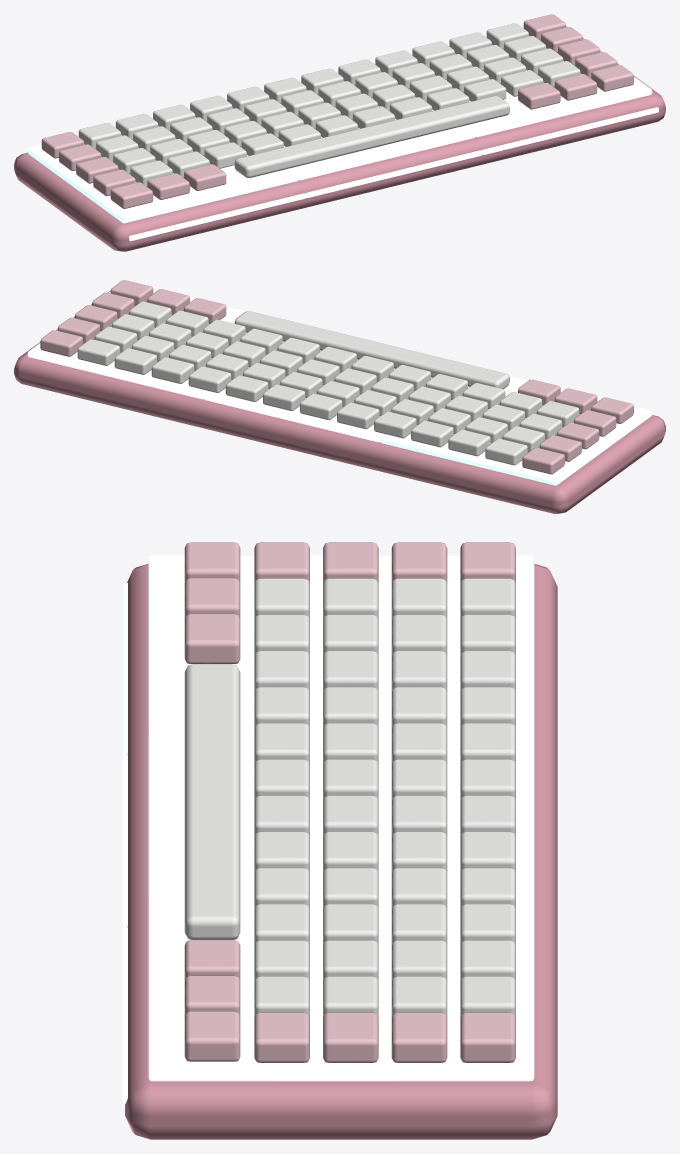
The model's file is cozy-keyboard.glb.
The picture shows the model from 3 angles, top to bottom: view 1: azimuth 30°, elevation 25°; view 2: azimuth 150°, elevation 25°; view 3: azimuth 270°, elevation 25°; orthographic projection. The views are drawn at different scales.
Parts seen in each view (by area): view 1: Porcelain, PetalPink, RoseFabric, KeyBacklightCyan, KeyBacklightPink, KeyBacklightLavender; view 2: Porcelain, PetalPink, RoseFabric, KeyBacklightCyan, KeyBacklightPink, KeyBacklightLavender; view 3: Porcelain, PetalPink, RoseFabric, KeyBacklightPink, KeyBacklightCyan, KeyBacklightLavender.
Part boxes in pixels (x1,y1,x2,y2): Porcelain: [78, 23, 580, 186]; PetalPink: [14, 26, 665, 251]; RoseFabric: [41, 14, 633, 208]; KeyBacklightCyan: [27, 109, 305, 241]; KeyBacklightPink: [418, 27, 658, 154]; KeyBacklightLavender: [226, 64, 482, 198]; Porcelain: [77, 301, 579, 465]; PetalPink: [14, 290, 665, 513]; RoseFabric: [40, 280, 633, 474]; KeyBacklightCyan: [380, 376, 652, 485]; KeyBacklightPink: [27, 289, 246, 399]; KeyBacklightLavender: [204, 341, 431, 442]; Porcelain: [184, 578, 515, 1017]; PetalPink: [125, 564, 557, 1139]; RoseFabric: [184, 542, 515, 1062]; KeyBacklightPink: [122, 900, 534, 1107]; KeyBacklightCyan: [122, 555, 534, 756]; KeyBacklightLavender: [122, 728, 534, 928].
Bounding box in the file's own units: 1.36 × 0.1045 × 0.463.
